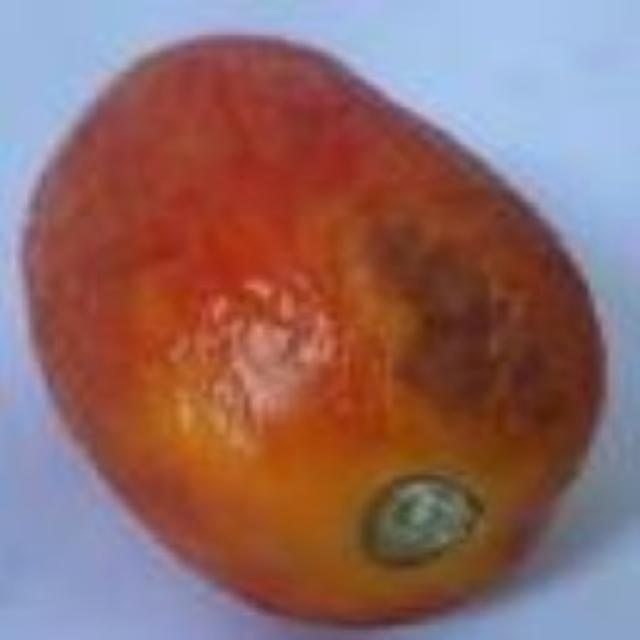defect: (22, 28, 606, 638)
